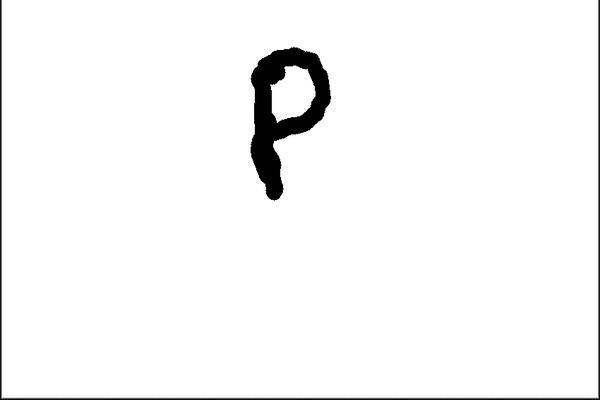P: (233, 40, 341, 214)
